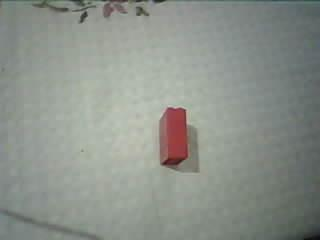lego: (157, 106, 188, 166)
